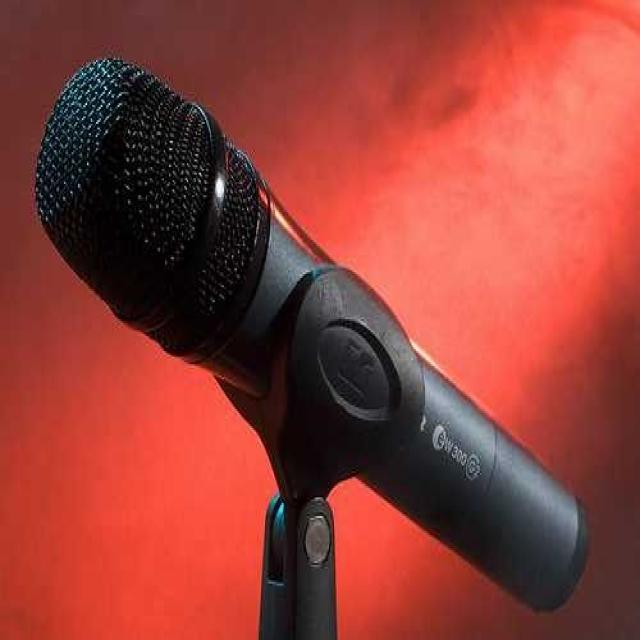microphone: (27, 45, 600, 610)
